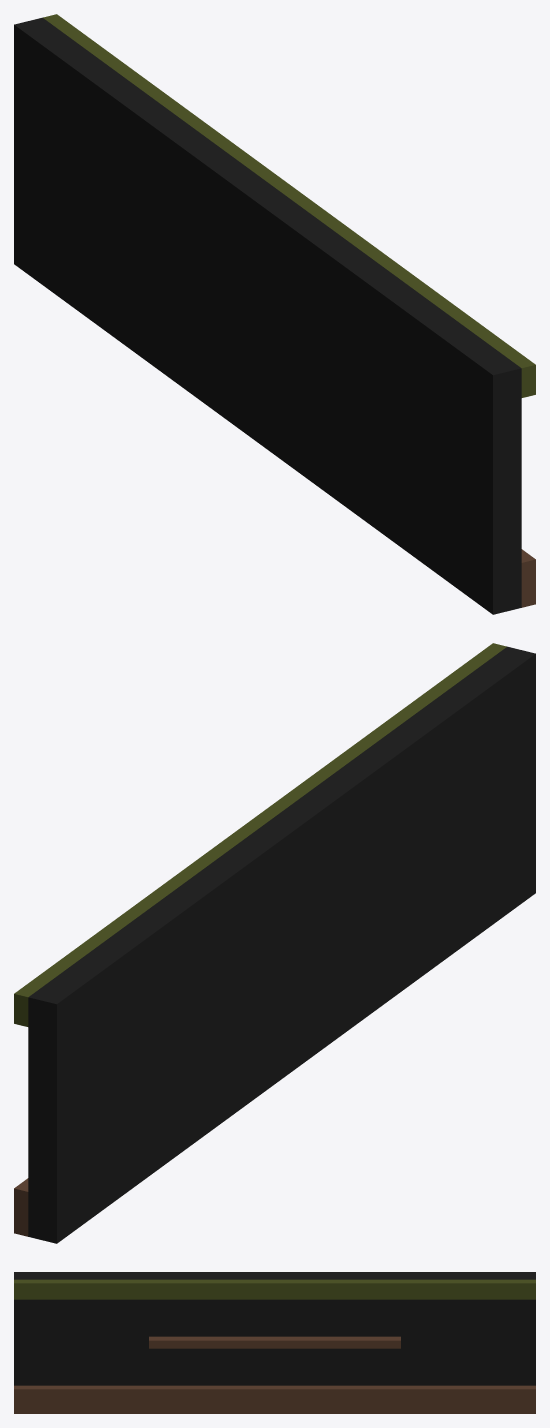
File: technical_grille.glb
The picture shows the model from 3 angles, top to bottom: view 1: azimuth 30°, elevation 25°; view 2: azimuth 150°, elevation 25°; view 3: azimuth 270°, elevation 25°; orthographic projection. The views are drawn at different scales.
Visible parts, largest first — view 1: body:compound; view 2: body:compound; view 3: body:compound.
Boxes of the visible parts, x1,y1,x2,y2 form: body:compound: (14,14,535,614); body:compound: (14,643,535,1243); body:compound: (14,1272,535,1413).
Bounding box in the file's own units: 0.0938 × 0.5 × 1.81.
